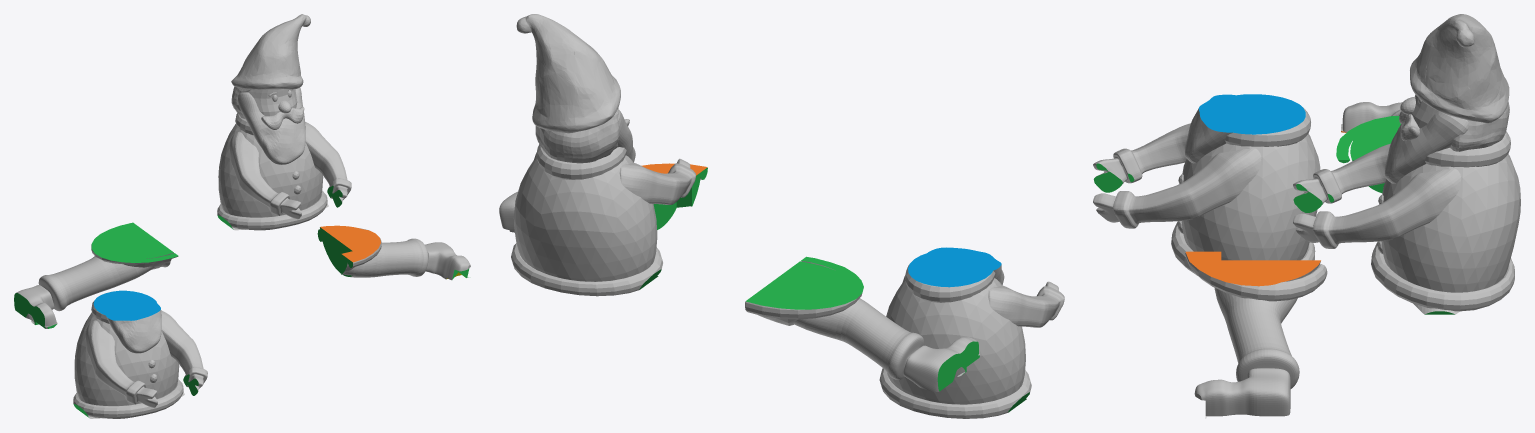
File: santademanbrer.glb
3 renders of one model, left to right at view 1: azimuth 30°, elevation 25°; view 2: azimuth 150°, elevation 25°; view 3: azimuth 270°, elevation 25°, orthographic. The views are drawn at different scales.
Size of the model in its own units: 0.1132 by 0.0783 by 0.0729.
